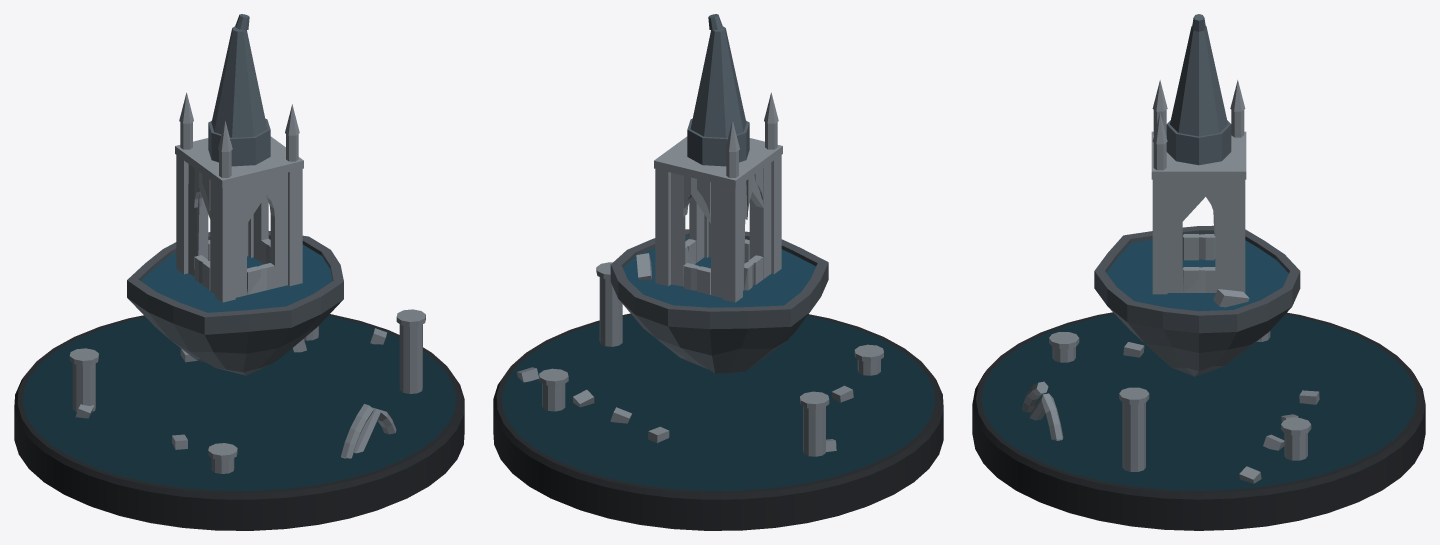
File: turntable.glb
The picture shows the model from 3 angles, left to right: view 1: azimuth 30°, elevation 25°; view 2: azimuth 150°, elevation 25°; view 3: azimuth 270°, elevation 25°; orthographic projection.
Parts seen in each view (by area): view 1: PlinthTop, Plinth, Slab, Masonry, Ruins, Spire, Water, Wall0, Wall2, Wall3, Wall1; view 2: PlinthTop, Plinth, Slab, Masonry, Ruins, Spire, Wall1, Water, Wall2, Wall3, Wall0; view 3: PlinthTop, Plinth, Slab, Masonry, Ruins, Spire, Wall3, Water, Wall2.
Part boxes in pixels (x1=…): PlinthTop: x1=23, y1=316, x2=455, y2=490; Plinth: x1=14, y1=314, x2=464, y2=530; Slab: x1=127, y1=231, x2=343, y2=375; Masonry: x1=175, y1=92, x2=303, y2=302; Ruins: x1=69, y1=309, x2=425, y2=473; Spire: x1=208, y1=14, x2=270, y2=166; Water: x1=141, y1=239, x2=332, y2=312; Wall0: x1=235, y1=172, x2=287, y2=297; Wall2: x1=188, y1=164, x2=214, y2=293; Wall3: x1=253, y1=196, x2=270, y2=264; Wall1: x1=198, y1=197, x2=248, y2=260; PlinthTop: x1=502, y1=315, x2=934, y2=490; Plinth: x1=493, y1=313, x2=943, y2=530; Slab: x1=610, y1=229, x2=828, y2=373; Masonry: x1=636, y1=92, x2=782, y2=302; Ruins: x1=516, y1=262, x2=883, y2=456; Spire: x1=687, y1=14, x2=749, y2=166; Wall1: x1=671, y1=172, x2=722, y2=297; Water: x1=623, y1=237, x2=815, y2=307; Wall2: x1=743, y1=163, x2=771, y2=290; Wall3: x1=685, y1=196, x2=704, y2=264; Wall0: x1=708, y1=198, x2=756, y2=263; PlinthTop: x1=981, y1=314, x2=1416, y2=490; Plinth: x1=972, y1=312, x2=1425, y2=530; Slab: x1=1094, y1=225, x2=1300, y2=376; Masonry: x1=1151, y1=80, x2=1249, y2=307; Ruins: x1=1022, y1=331, x2=1319, y2=483; Spire: x1=1166, y1=14, x2=1231, y2=165; Wall3: x1=1167, y1=179, x2=1230, y2=292; Water: x1=1106, y1=234, x2=1288, y2=311; Wall2: x1=1182, y1=211, x2=1215, y2=260.
Bounding box in the file's own units: 4.2 × 4.34 × 4.2.
